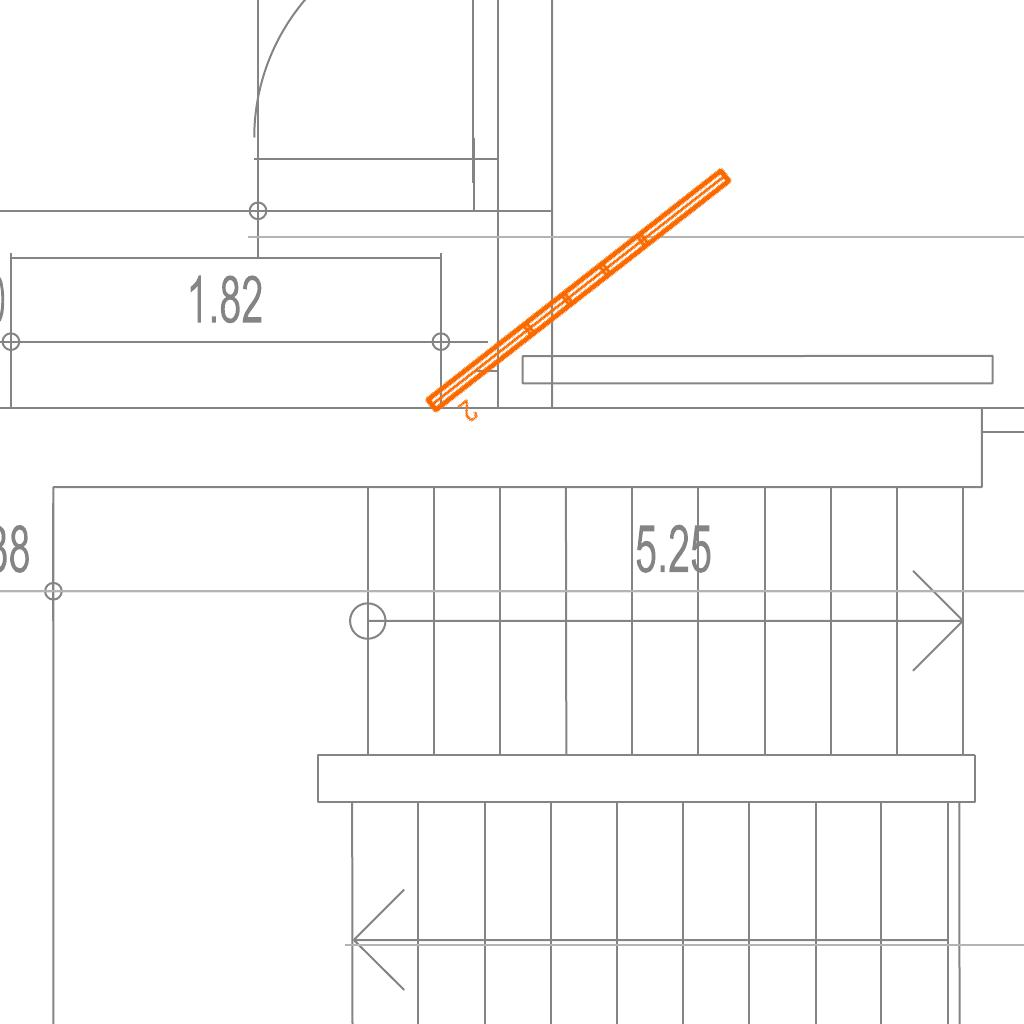Ambulanz_Pendelleuchte_LED: (416, 158, 757, 442)
